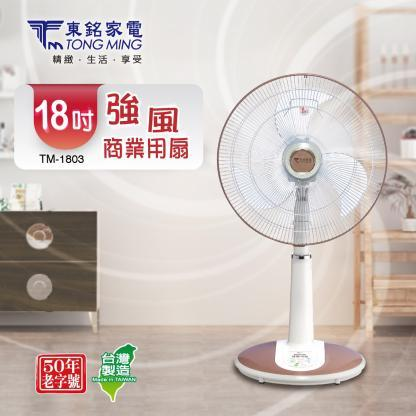fan: (199, 74, 404, 244)
